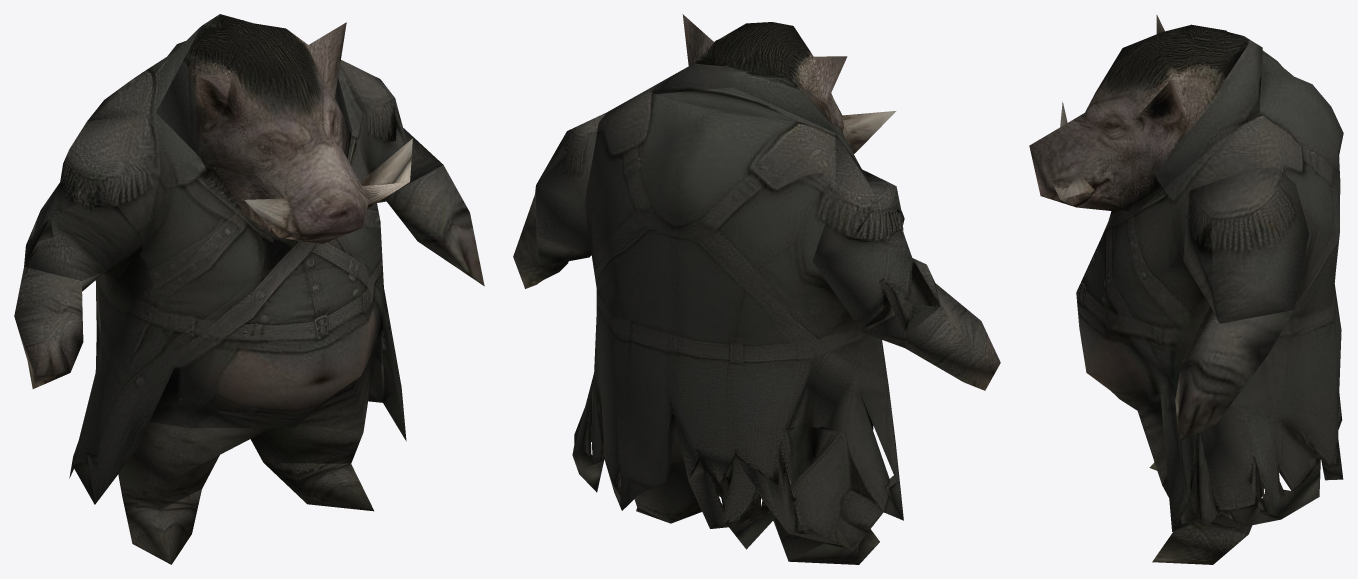
The model's file is cavalry_mix_gibs.glb.
The picture shows the model from 3 angles, left to right: view 1: azimuth 30°, elevation 25°; view 2: azimuth 150°, elevation 25°; view 3: azimuth 270°, elevation 25°; orthographic projection. The views are drawn at different scales.
Parts seen in each view (by area): view 1: Body.001, Head.001, Arm.R.001, Upleg.R.001, Forarm.R.001, Forarm.L.001, Arm.L.001, Upleg.L.001, Leg.R.001, Leg.L.001; view 2: Body.001, Arm.R.001, Head.001, Arm.L.001, Forarm.R.001, Forarm.L.001, Upleg.L.001, Leg.R.001, Upleg.R.001; view 3: Body.001, Head.001, Arm.L.001, Forarm.L.001, Leg.L.001, Upleg.L.001.
Part boxes in pixels (x1,y1,x2,y2): Body.001: [69, 27, 406, 504]; Head.001: [156, 14, 412, 243]; Arm.R.001: [24, 112, 160, 280]; Upleg.R.001: [118, 422, 270, 509]; Forarm.R.001: [14, 267, 106, 388]; Forarm.L.001: [378, 165, 484, 286]; Arm.L.001: [340, 60, 443, 188]; Upleg.L.001: [250, 423, 362, 463]; Leg.R.001: [122, 489, 201, 564]; Leg.L.001: [264, 462, 373, 511]; Body.001: [572, 87, 903, 550]; Arm.R.001: [812, 133, 940, 347]; Head.001: [648, 14, 895, 153]; Arm.L.001: [535, 112, 606, 257]; Forarm.R.001: [905, 283, 1000, 390]; Forarm.L.001: [513, 195, 588, 288]; Upleg.L.001: [634, 439, 698, 523]; Leg.R.001: [789, 529, 879, 564]; Upleg.R.001: [762, 429, 873, 561]; Body.001: [1076, 50, 1343, 531]; Head.001: [1029, 14, 1262, 214]; Arm.L.001: [1183, 167, 1309, 323]; Forarm.L.001: [1175, 306, 1294, 440]; Leg.L.001: [1152, 523, 1248, 564]; Upleg.L.001: [1162, 451, 1264, 534].
Bounding box in the file's own units: 0.8698 × 0.9091 × 0.5338.
2 materials, 1 textured.
